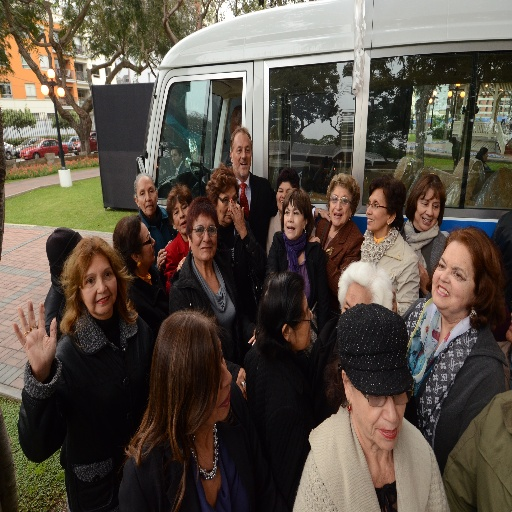hand: (13, 304, 57, 391), (228, 197, 244, 231), (417, 261, 429, 295), (236, 366, 247, 400), (155, 247, 167, 271), (391, 288, 398, 314), (246, 328, 256, 346), (306, 233, 320, 244), (320, 208, 331, 222), (177, 257, 186, 270), (164, 239, 172, 246)
